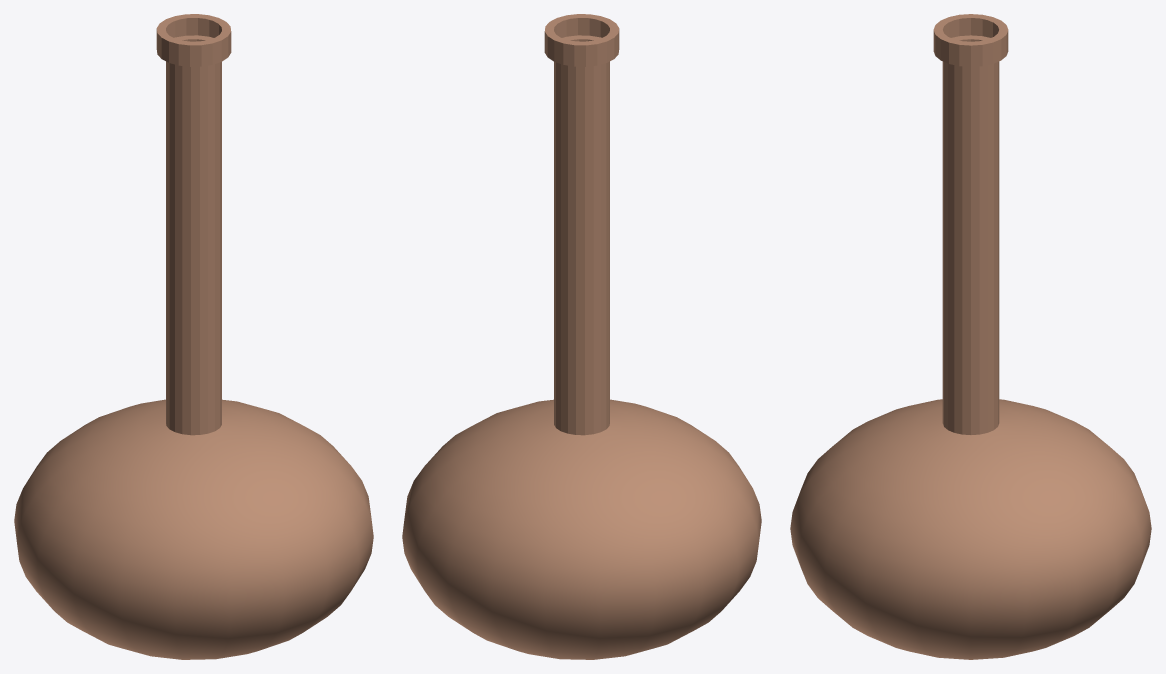
The model's file is Potion1.fbx.
3 renders of one model, left to right at view 1: azimuth 30°, elevation 25°; view 2: azimuth 150°, elevation 25°; view 3: azimuth 270°, elevation 25°, orthographic.
Parts seen in each view (by area): view 1: pSphere1; view 2: pSphere1; view 3: pSphere1.
Boxes of the visible parts, left/top/right/bottom form: pSphere1: left=14, top=14, right=373, bottom=659; pSphere1: left=402, top=14, right=761, bottom=659; pSphere1: left=790, top=14, right=1151, bottom=659.
Size of the model in its own units: 40 by 73.98 by 40.
